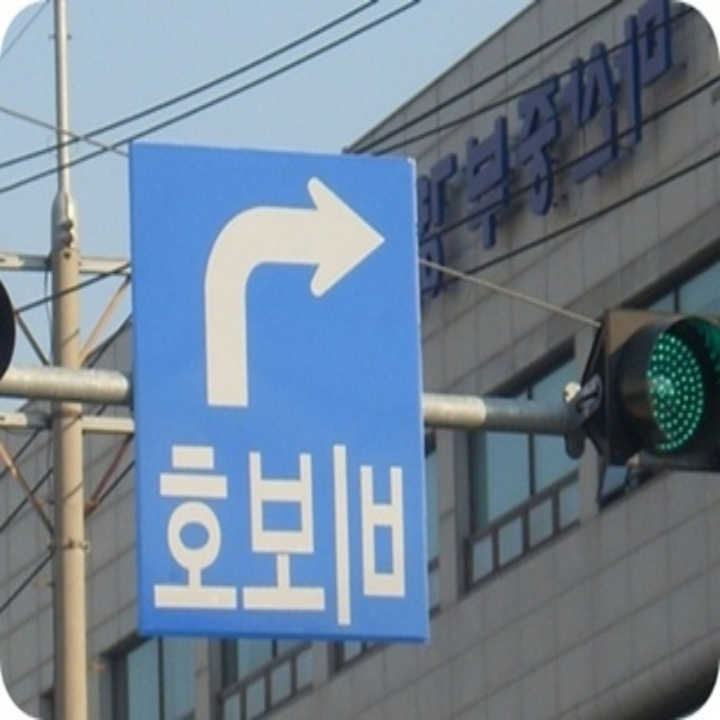right: (188, 161, 389, 416)
